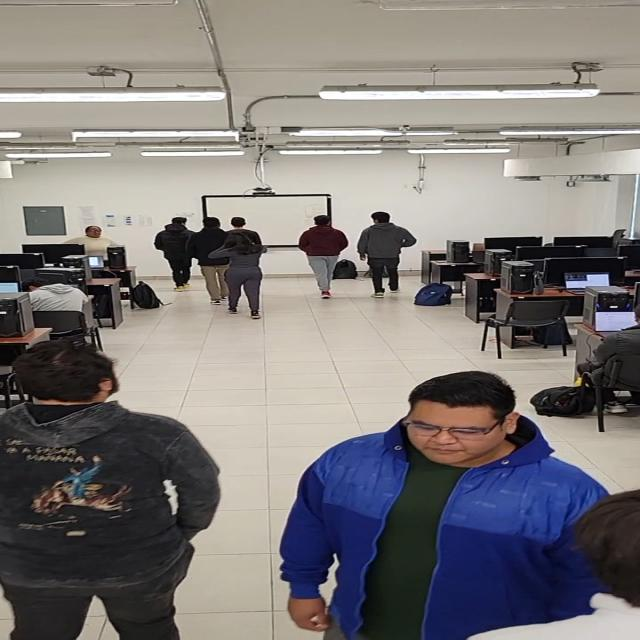Persona: (284, 361, 601, 640), (0, 339, 220, 640), (357, 211, 410, 300), (294, 213, 347, 301), (223, 228, 269, 324), (146, 211, 190, 291), (193, 211, 222, 311)
